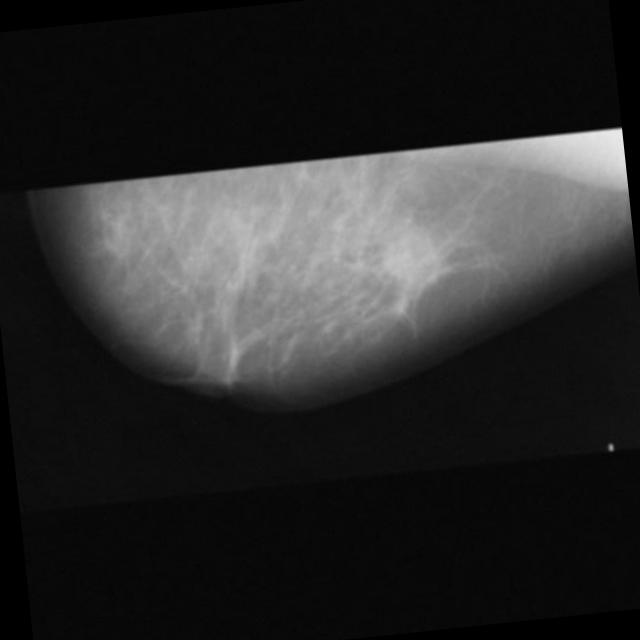ASYM: (378, 226, 437, 284)
